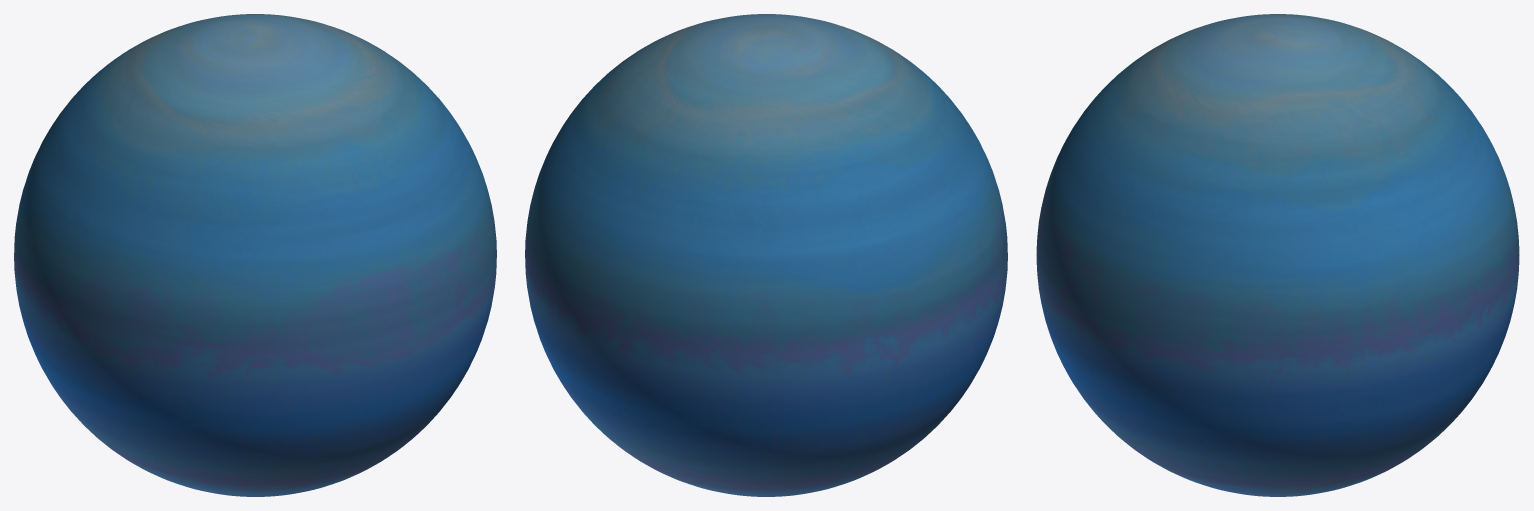
The model's file is gliese_876_e.glb.
3 views of the same model, side by side, from view 1: azimuth 30°, elevation 25°; view 2: azimuth 150°, elevation 25°; view 3: azimuth 270°, elevation 25° (orthographic).
Parts seen in each view (by area): view 1: Esfera; view 2: Esfera; view 3: Esfera.
Boxes of the visible parts, bbox=[...] form: Esfera: bbox=[14, 14, 496, 496]; Esfera: bbox=[525, 14, 1007, 496]; Esfera: bbox=[1036, 14, 1519, 496].
Bounding box in the file's own units: 2000 × 2000 × 2000.
1 material, 1 textured.
